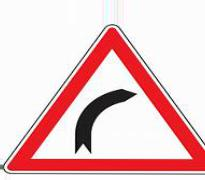right: (3, 24, 205, 172)
